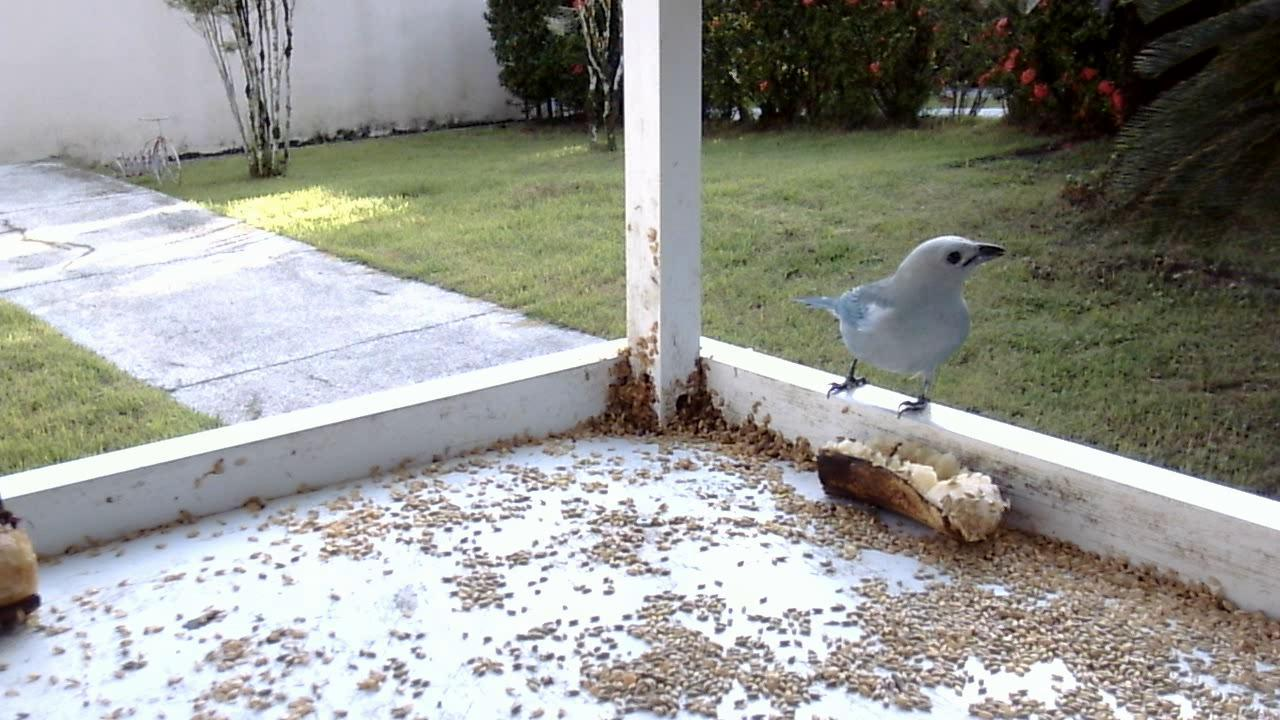sanhaco_da_amazonia: (791, 231, 1005, 428)
